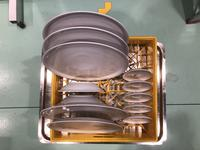Dish: (42, 42, 129, 81), (42, 11, 130, 43), (42, 27, 129, 59), (41, 103, 129, 121), (46, 117, 123, 134), (57, 82, 104, 92), (122, 68, 152, 82), (58, 95, 102, 104), (121, 80, 152, 91), (123, 103, 153, 113), (123, 114, 152, 124), (123, 92, 152, 102)
